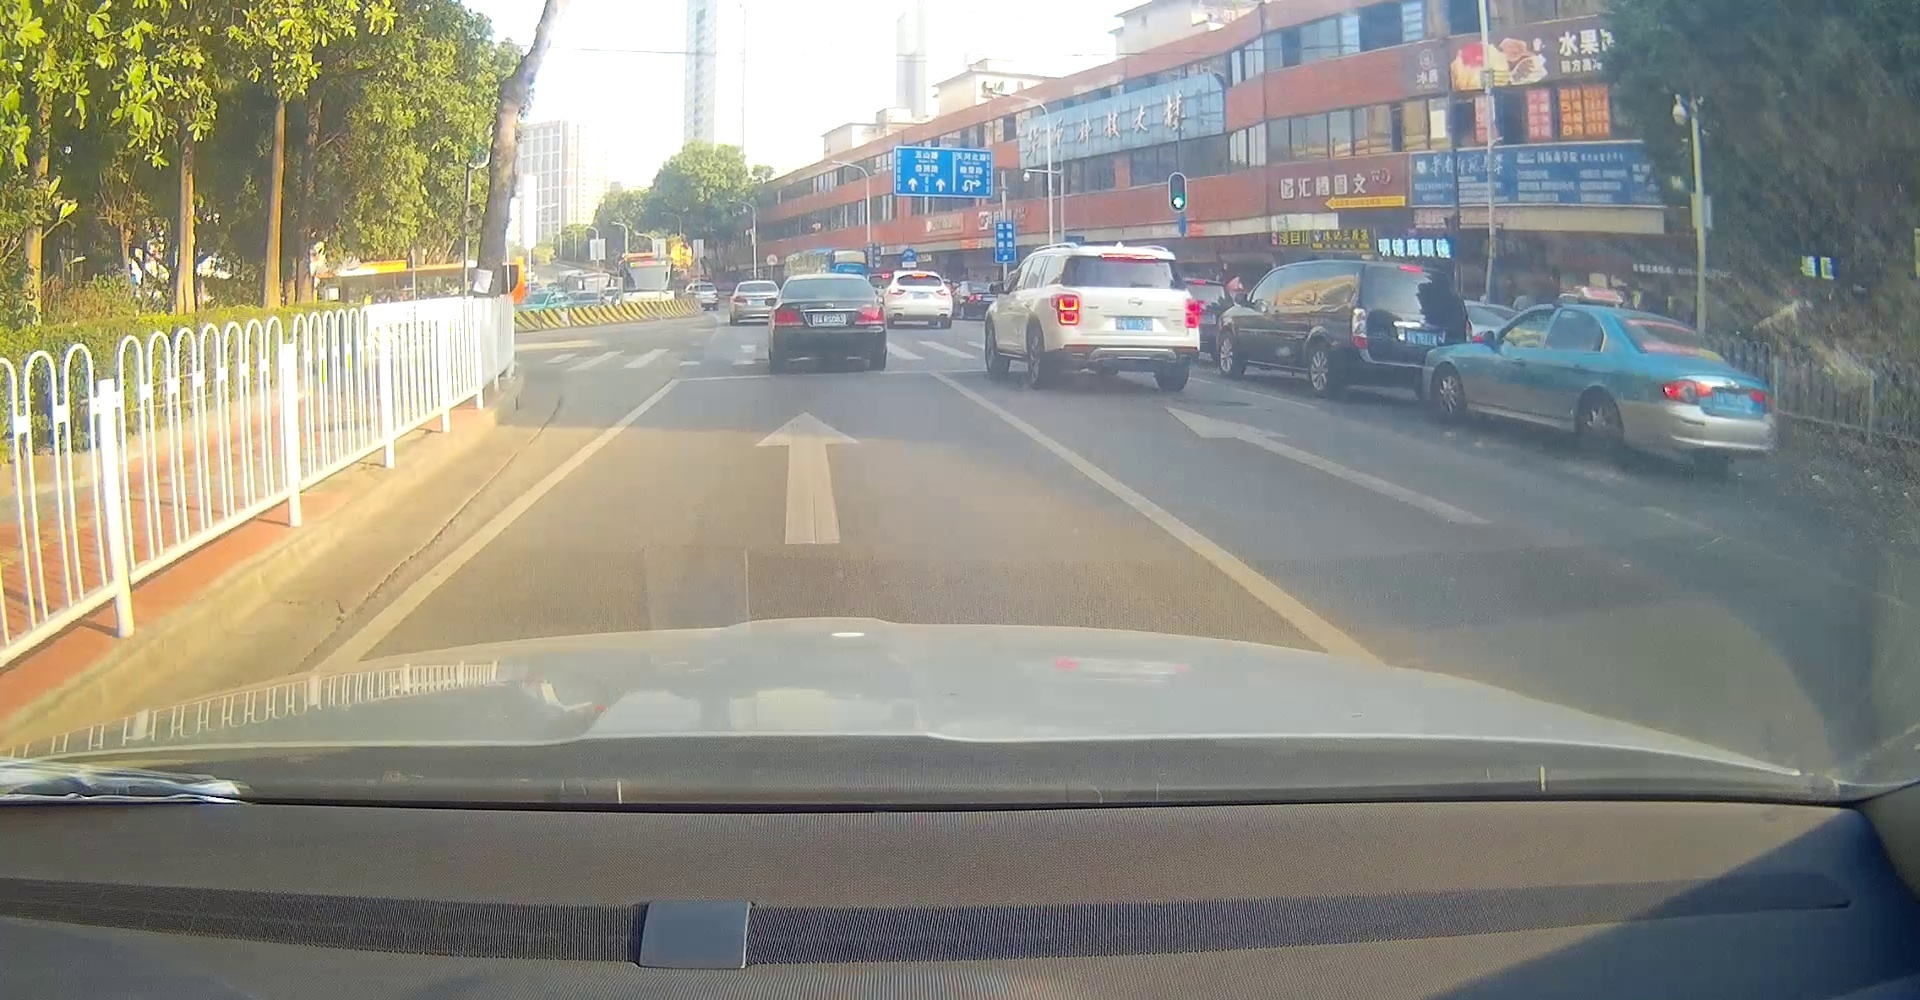L_light: (1663, 378, 1713, 405), (1057, 294, 1081, 326), (1351, 308, 1368, 350), (775, 308, 803, 326), (889, 287, 905, 294)
R_light: (1749, 388, 1777, 415), (855, 306, 885, 325), (1183, 298, 1200, 327), (1465, 320, 1473, 349), (936, 288, 950, 296)
T_light: (1098, 253, 1158, 261), (1398, 264, 1423, 273), (1660, 320, 1677, 326), (817, 294, 837, 299), (912, 273, 927, 277)
day-brake: (1049, 246, 1201, 391), (1350, 261, 1474, 400), (888, 270, 950, 329)
day-no: (1611, 308, 1778, 475), (772, 273, 886, 371)
